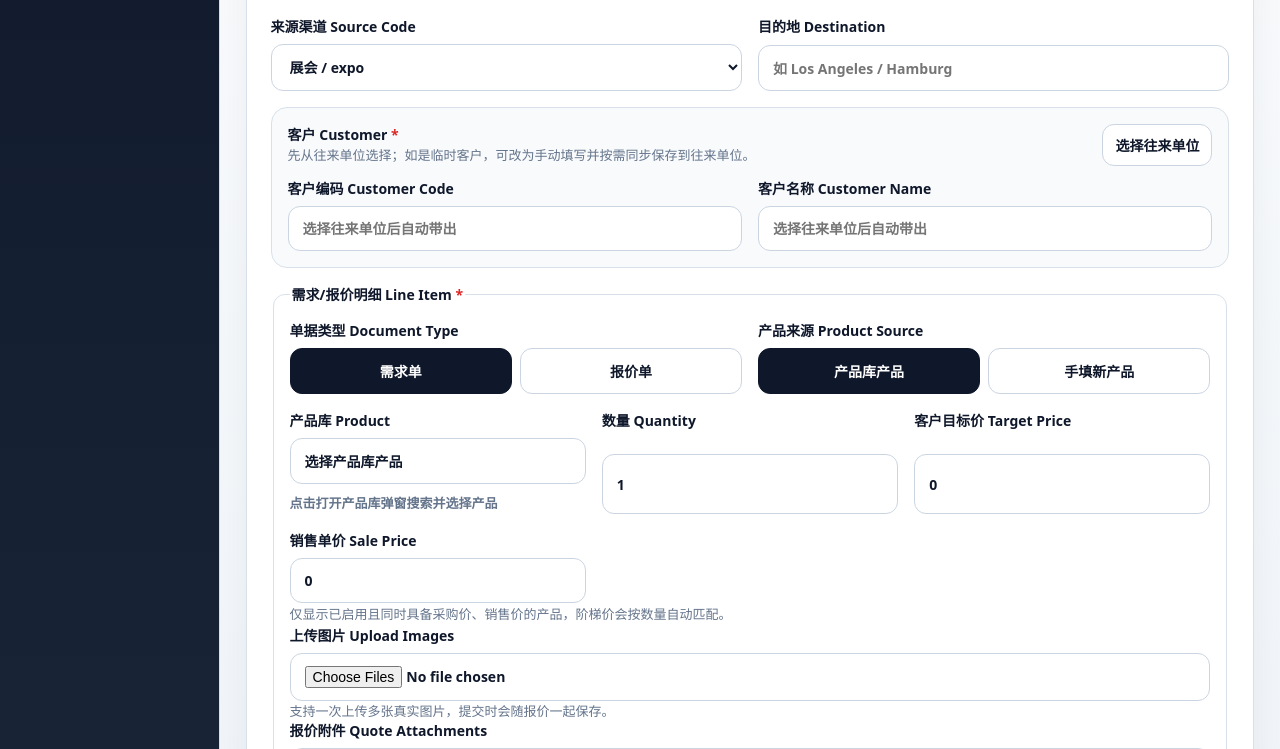
Scenario: formal quote create page › hides existing product fields when switching to candidate product mode
(page scrolled)
Step 1. Click the button "手填新产品" → (1099,371), box 988,348 -> 1210,394
(page scrolled)
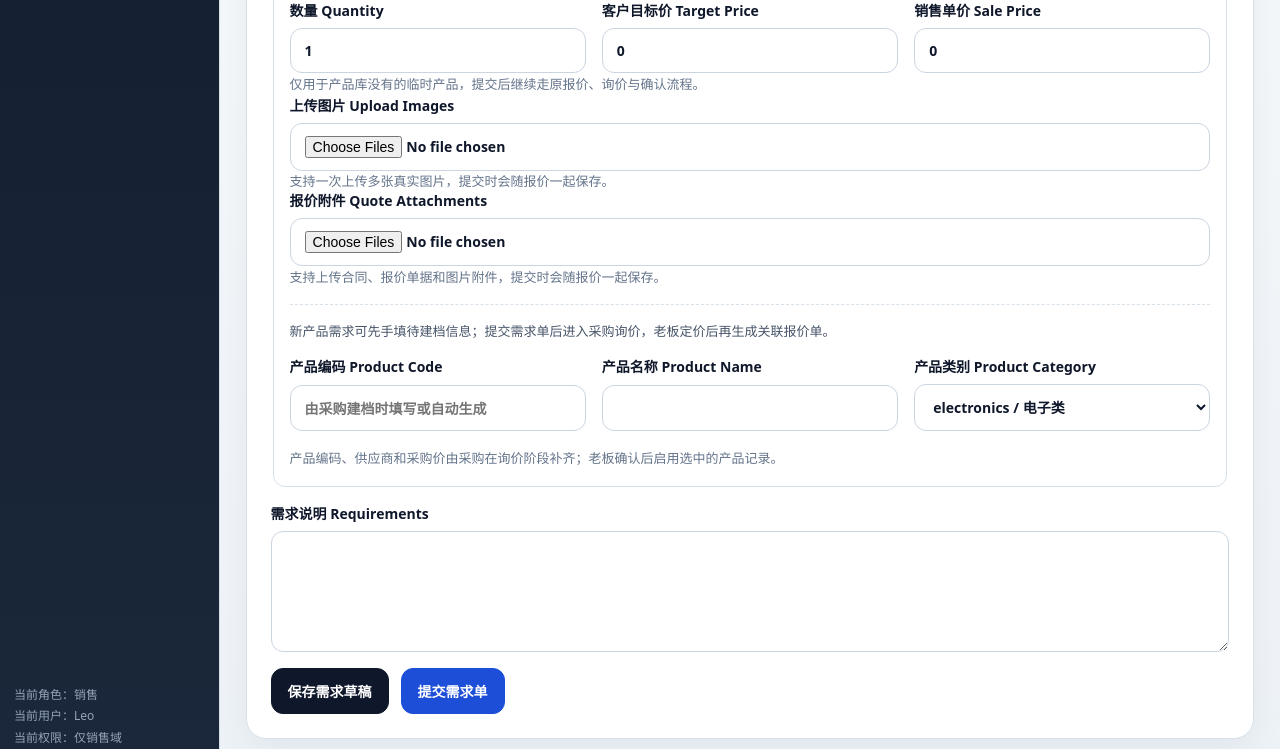
Check: the field labelled "产品编码 Product Code" is shown, box 290,386 -> 586,432
Check: the field labelled "产品名称 Product Name" is shown, box 602,386 -> 898,432
Check: the dropdown labelled "产品类别 Product Category" is shown, box 914,384 -> 1210,432
